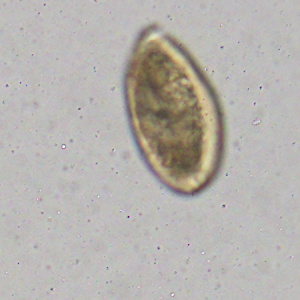Fasciola_hepatica_egg: (121, 21, 227, 197)
